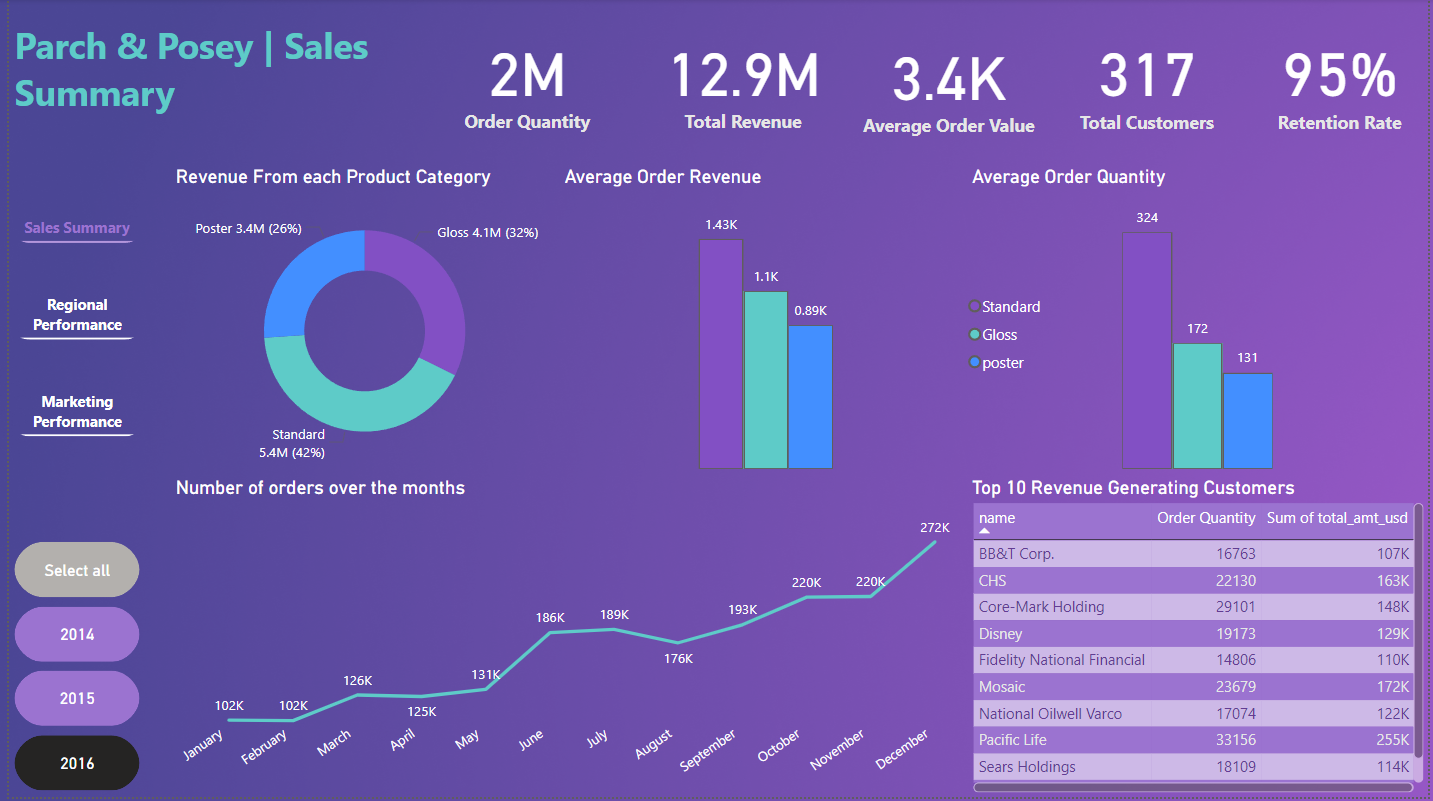

The dashboard page shown, as its layout file describes it:
{"tool":"powerbi","page":{"name":"Sales Summary","canvas":[1280,720],"ordinal":0},"visuals":[{"type":"lineChart","title":"Number of orders over the months","fields":{"Category":["orders.occurred_at.Variation.Date Hierarchy.Month"],"Y":["orders.Order Quantity"]},"box":[145.5,430.4,717.8,289.8],"z":0},{"type":"tableEx","title":"Top 10 Revenue Generating Customers","fields":{"Values":["accounts.name","orders.Order Quantity","Sum(orders.total_amt_usd)"]},"box":[863.3,430.4,417,289.8],"z":1000},{"type":"card","fields":{"Values":["Sum(orders.total_amt_usd)"]},"box":[562.5,0,199.3,144.3],"z":2000,"group":"g1"},{"type":"card","fields":{"Values":["orders.Order Quantity"]},"box":[371.7,0,190.8,144.3],"z":3000,"group":"g1"},{"type":"card","fields":{"Values":["accounts.Total Customers"]},"box":[933,2.4,185.9,140.6],"z":4000,"group":"g1"},{"type":"card","fields":{"Values":["Avg(orders.total_amt_usd)"]},"box":[761.8,7.3,171.2,135.7],"z":5000,"group":"g1"},{"type":"advancedSlicerVisual","fields":{"Values":["orders.occurred_at.Variation.Date Hierarchy.Year"]},"box":[0,484.2,123.5,236],"z":6000},{"type":"textbox","box":[0,0,371.7,150.4],"z":7000},{"type":"donutChart","title":"Revenue From each Product Category","fields":{"Y":["Sum(orders.gloss_amt_usd)","Sum(orders.standard_amt_usd)","Sum(orders.poster_amt_usd)"]},"box":[145.5,150.4,351,280],"z":8000},{"type":"clusteredColumnChart","title":"Average Order Revenue","fields":{"Y":["Avg(orders.standard_amt_usd)","Avg(orders.gloss_amt_usd)","Avg(orders.poster_amt_usd)"]},"box":[496.5,150.4,463.5,280],"z":9000},{"type":"clusteredColumnChart","title":"Average Order Quantity","fields":{"Y":["Avg(orders.standard_qty)","Avg(orders.gloss_qty)","Avg(orders.poster_qty)"]},"box":[863.3,150.4,417,280],"z":10000},{"type":"pageNavigator","box":[0,143.1,123.5,253.1],"z":11000},{"type":"card","fields":{"Values":["accounts.Retention Rate"]},"box":[1118.9,2.4,161.4,140.6],"z":12000,"group":"g1"},{"type":"group","id":"g1","title":"Group 1","box":[371.7,0,908.6,144.3],"z":12001}]}

Visuals, with their boxes in screenshot pixels (x1, y1, x2, y2), scaled from the page's 1280x720 canvas onto the 1433x801 screenshot:
"Number of orders over the months" lineChart: left=163, top=479, right=966, bottom=800
"Top 10 Revenue Generating Customers" tableEx: left=966, top=479, right=1432, bottom=800
card - Sum(orders.total_amt_usd): left=630, top=0, right=853, bottom=161
card - orders.Order Quantity: left=416, top=0, right=630, bottom=161
card - accounts.Total Customers: left=1045, top=3, right=1253, bottom=159
card - Avg(orders.total_amt_usd): left=853, top=8, right=1045, bottom=159
advancedSlicerVisual - orders.occurred_at.Variation.Date Hierarchy.Year: left=0, top=539, right=138, bottom=800
textbox: left=0, top=0, right=416, bottom=167
"Revenue From each Product Category" donutChart: left=163, top=167, right=556, bottom=479
"Average Order Revenue" clusteredColumnChart: left=556, top=167, right=1075, bottom=479
"Average Order Quantity" clusteredColumnChart: left=966, top=167, right=1432, bottom=479
pageNavigator: left=0, top=159, right=138, bottom=441
card - accounts.Retention Rate: left=1253, top=3, right=1432, bottom=159
"Group 1" group: left=416, top=0, right=1432, bottom=161
